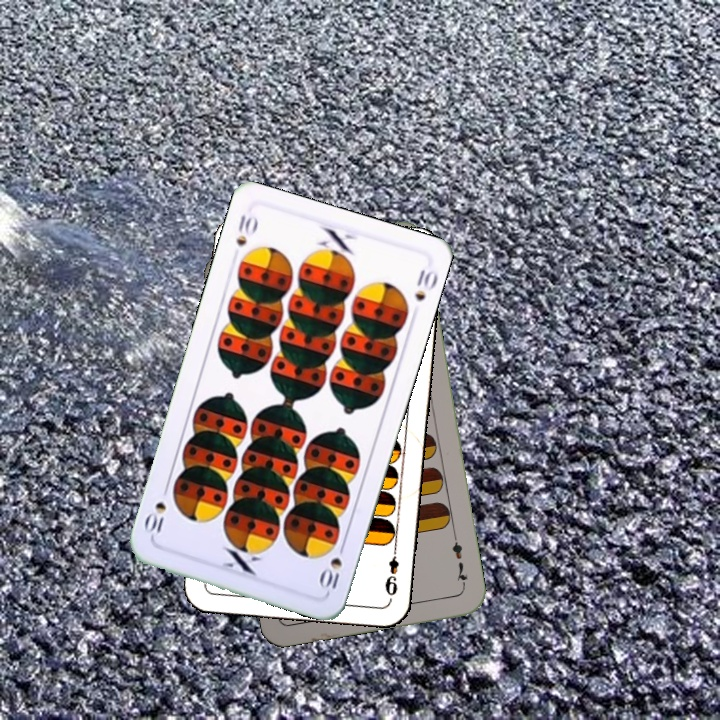E7: (448, 531, 470, 590)
E9: (381, 542, 401, 601)
S10: (315, 538, 348, 595), (232, 211, 261, 249)
